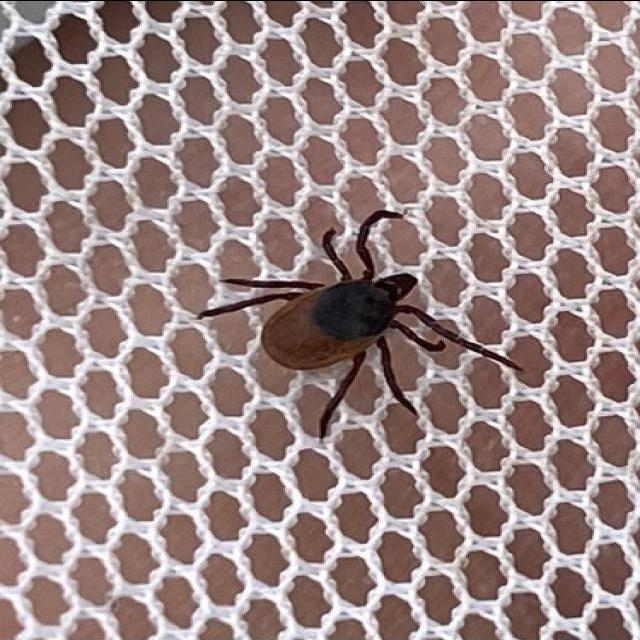Ixodes Ricinus-F: (196, 200, 507, 438)
